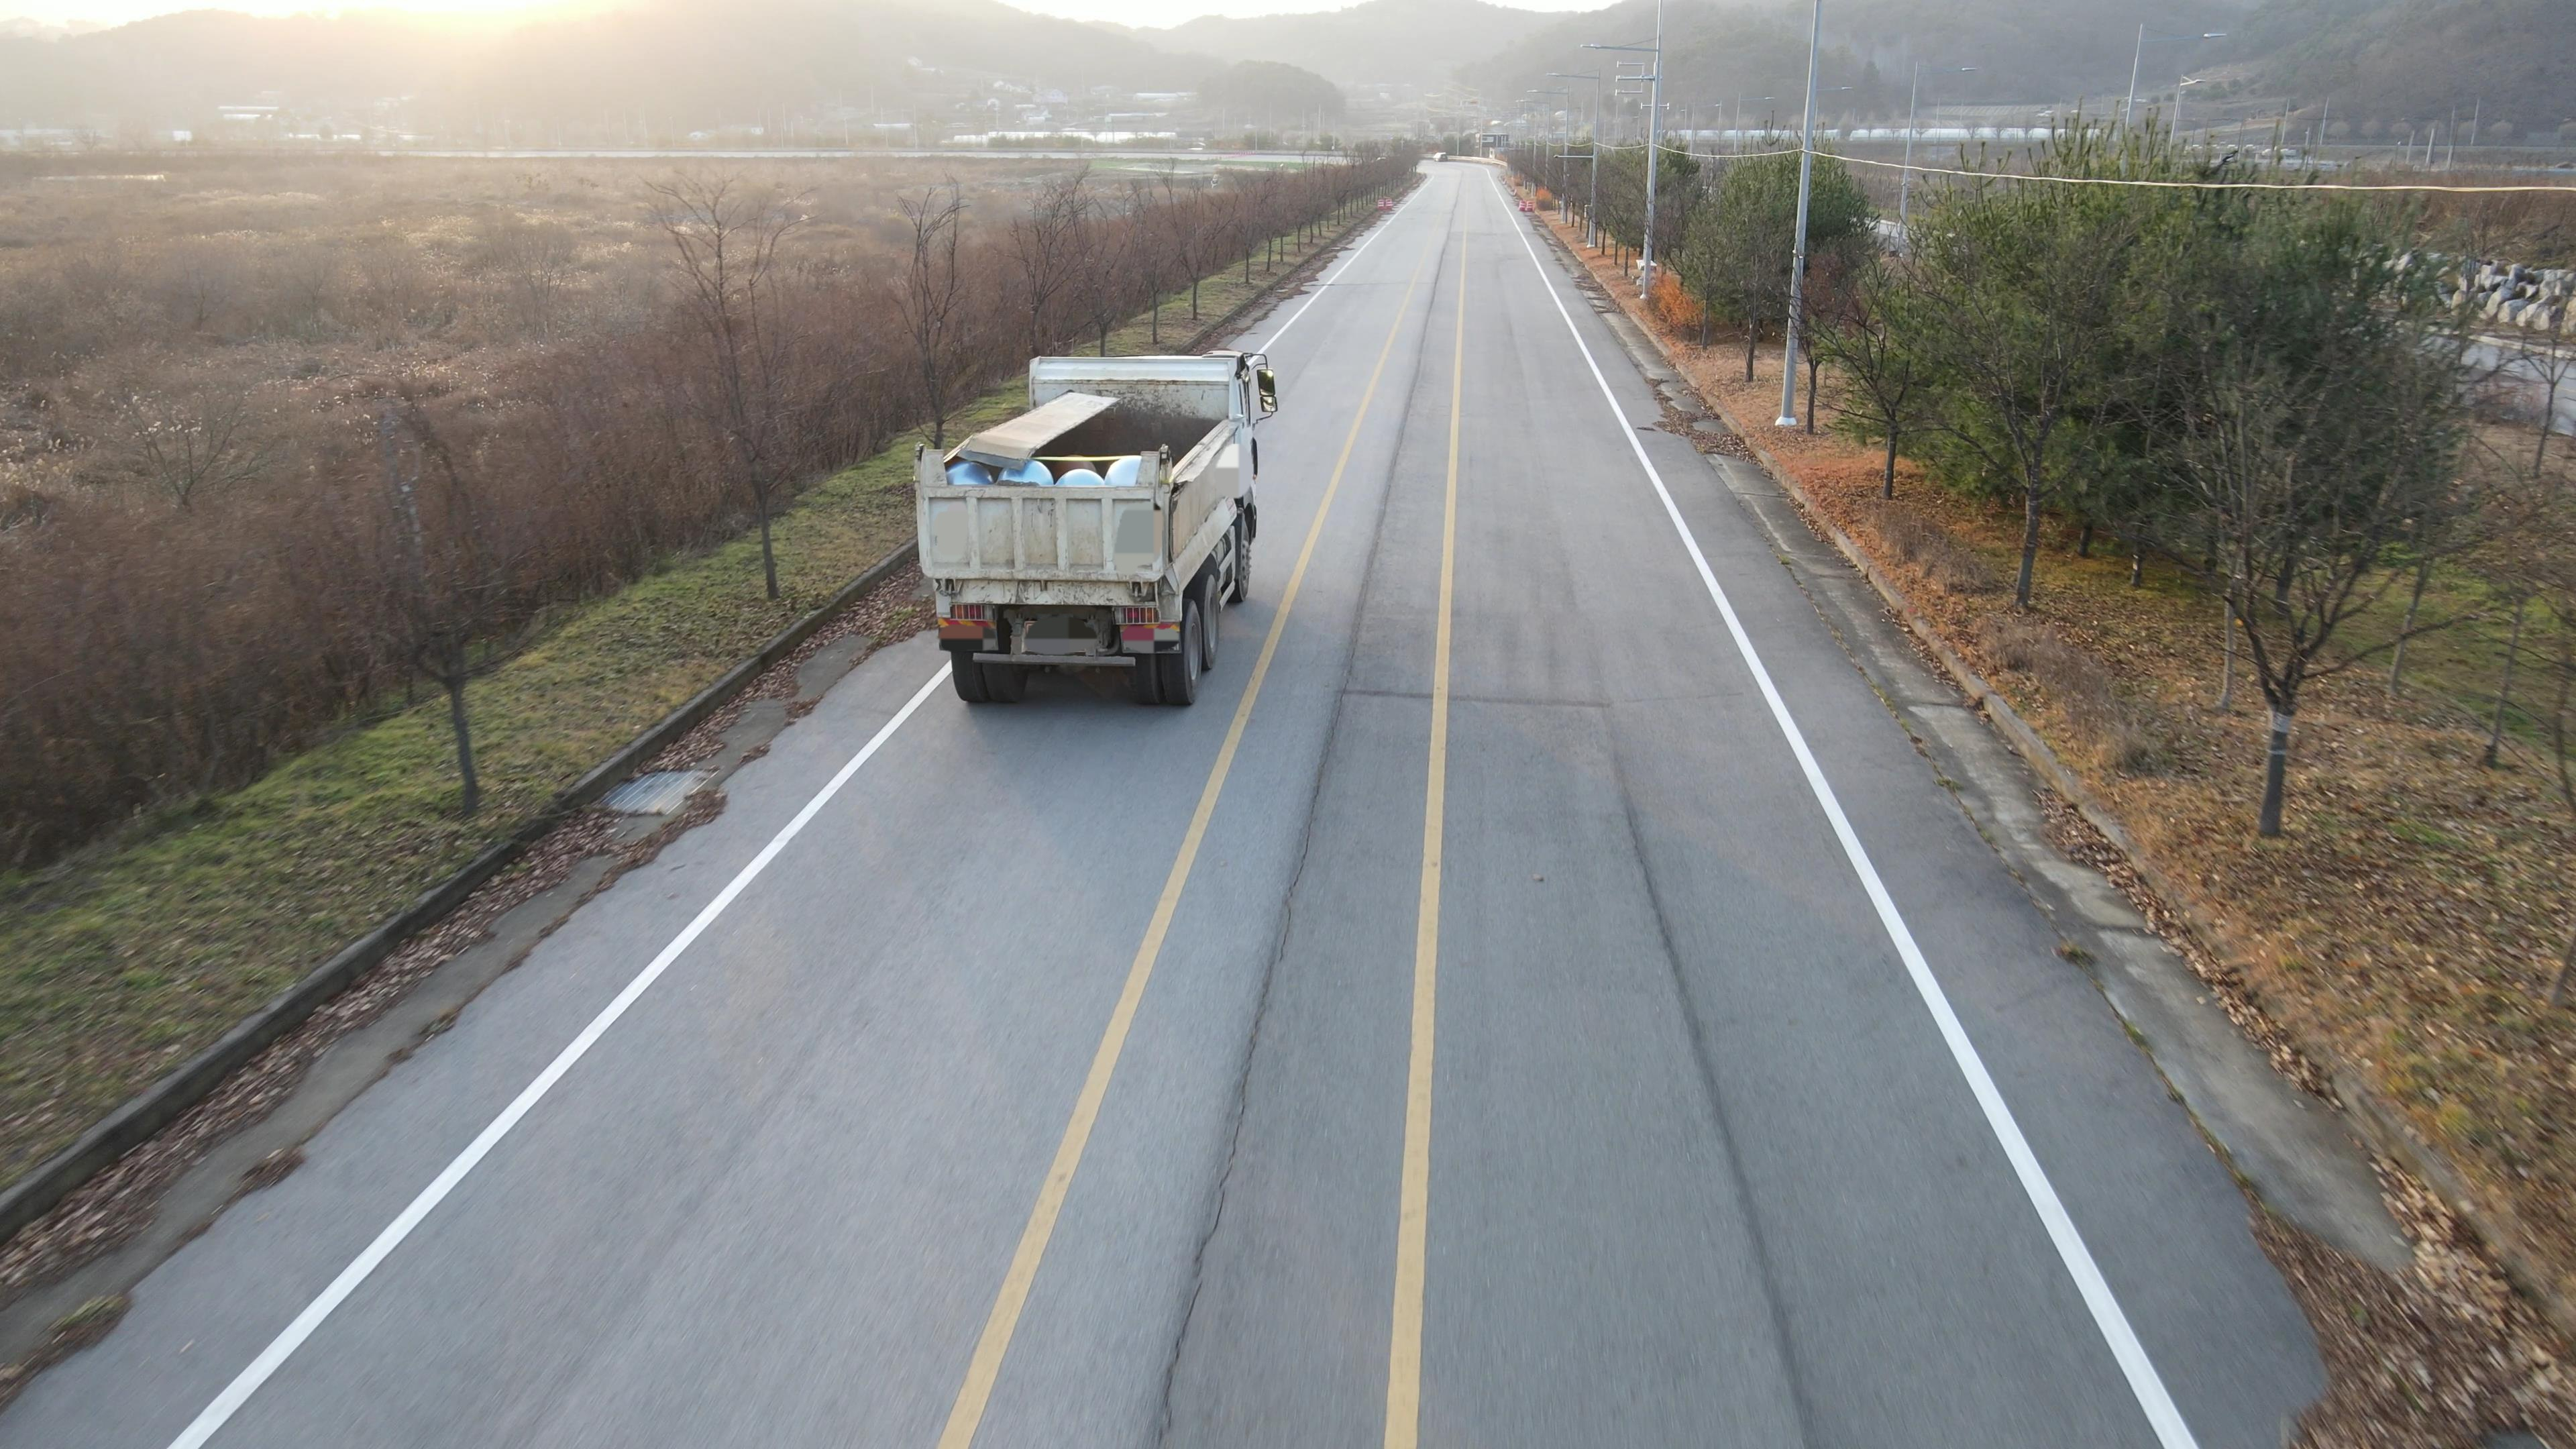불법차량: (913, 349, 1277, 704)
